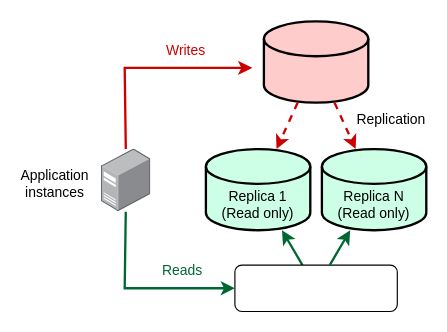
Image size: 447x332. Some labels were removed from this diagram. Each missing label, with the centre of its shape:
"Load balancer (or DNS load balancing)" belongs at (x=315, y=287).
"Primary (Read+Write)" belongs at (x=315, y=61).
